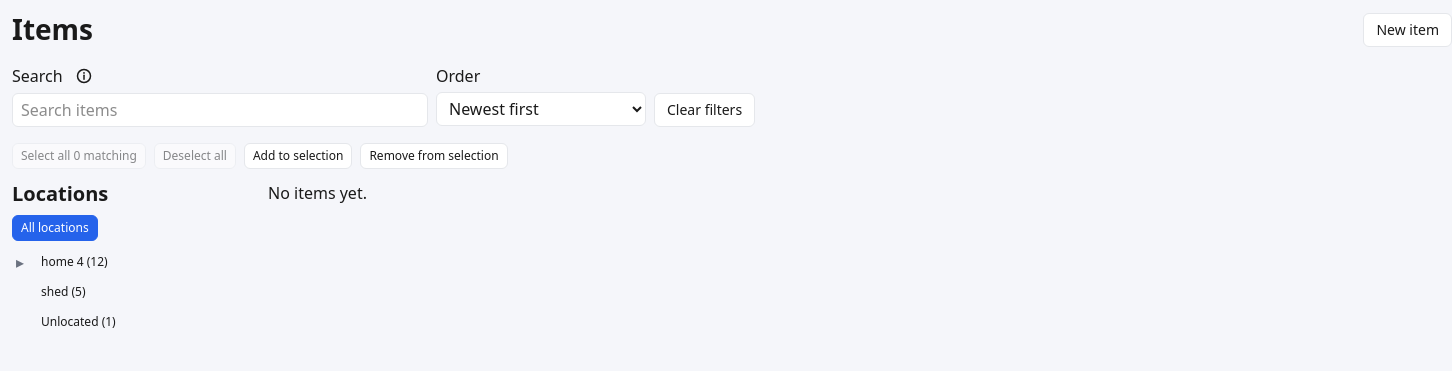
the location facet tree › only opens the branch when the chevron is clicked
This screenshot has width=1452, height=371.
Step 1. Click the button "▸" → (20,262), box [12,250,28,274]
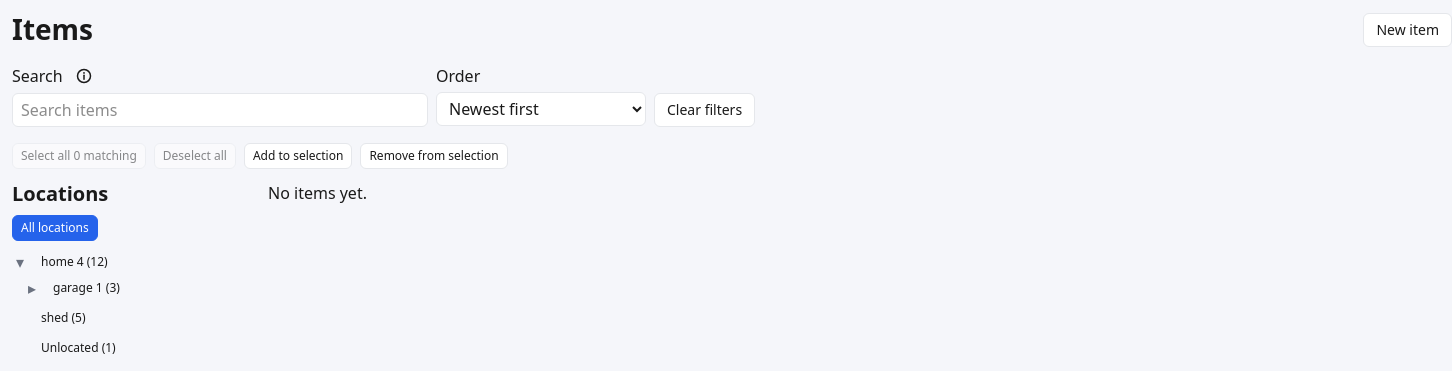
Expected: the button "garage 1 (3)" is shown, [44,275,129,301]
